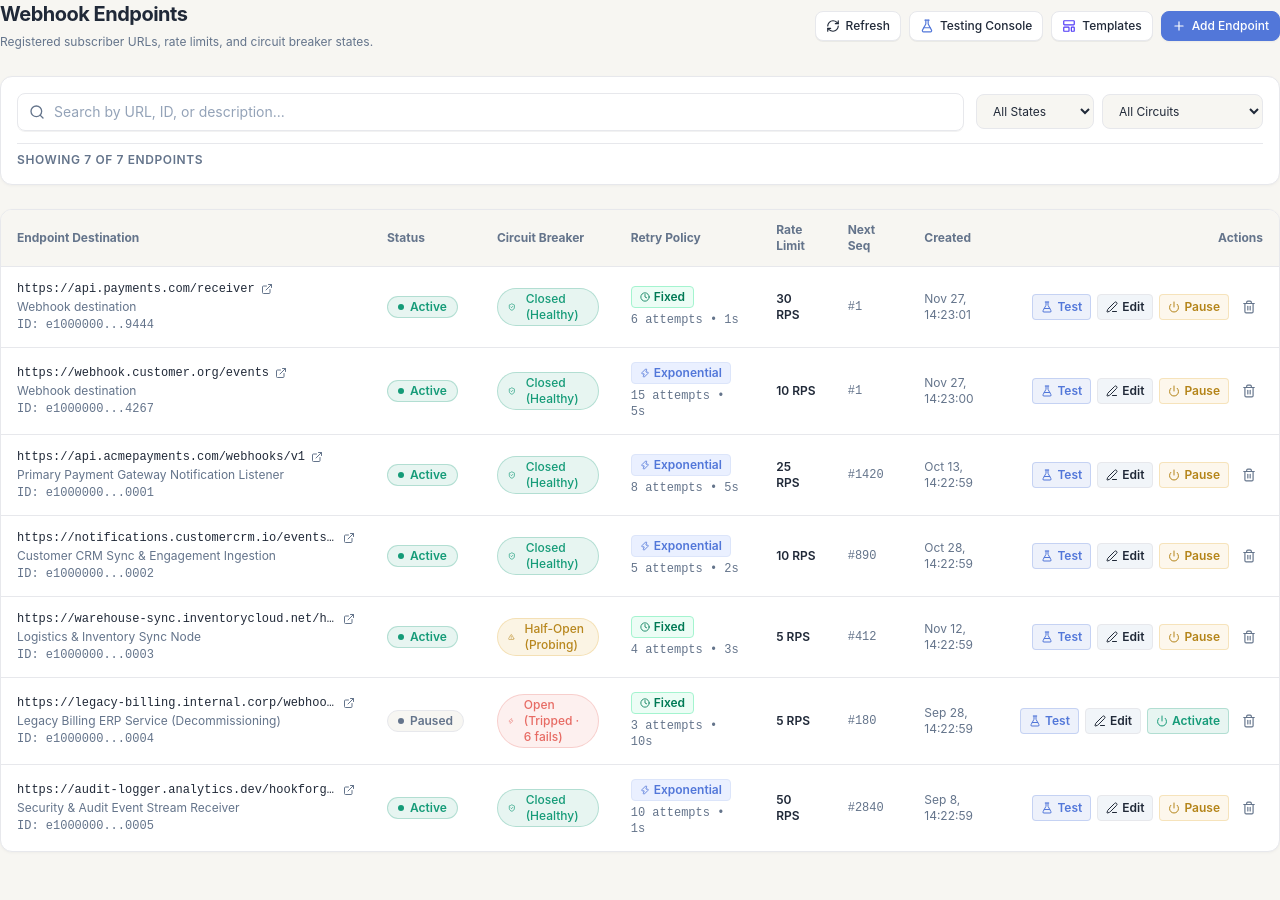
Test case: Phase 2, Task 3: Custom Retry Policies (Frontend) › 6. EndpointsPage Integration › opens Detail drawer when clicking endpoint destination link
The image size is (1280, 900).
Click the button "https://api.acmepayments.com/webhooks/v1": (161, 456) [17,448,305,464]
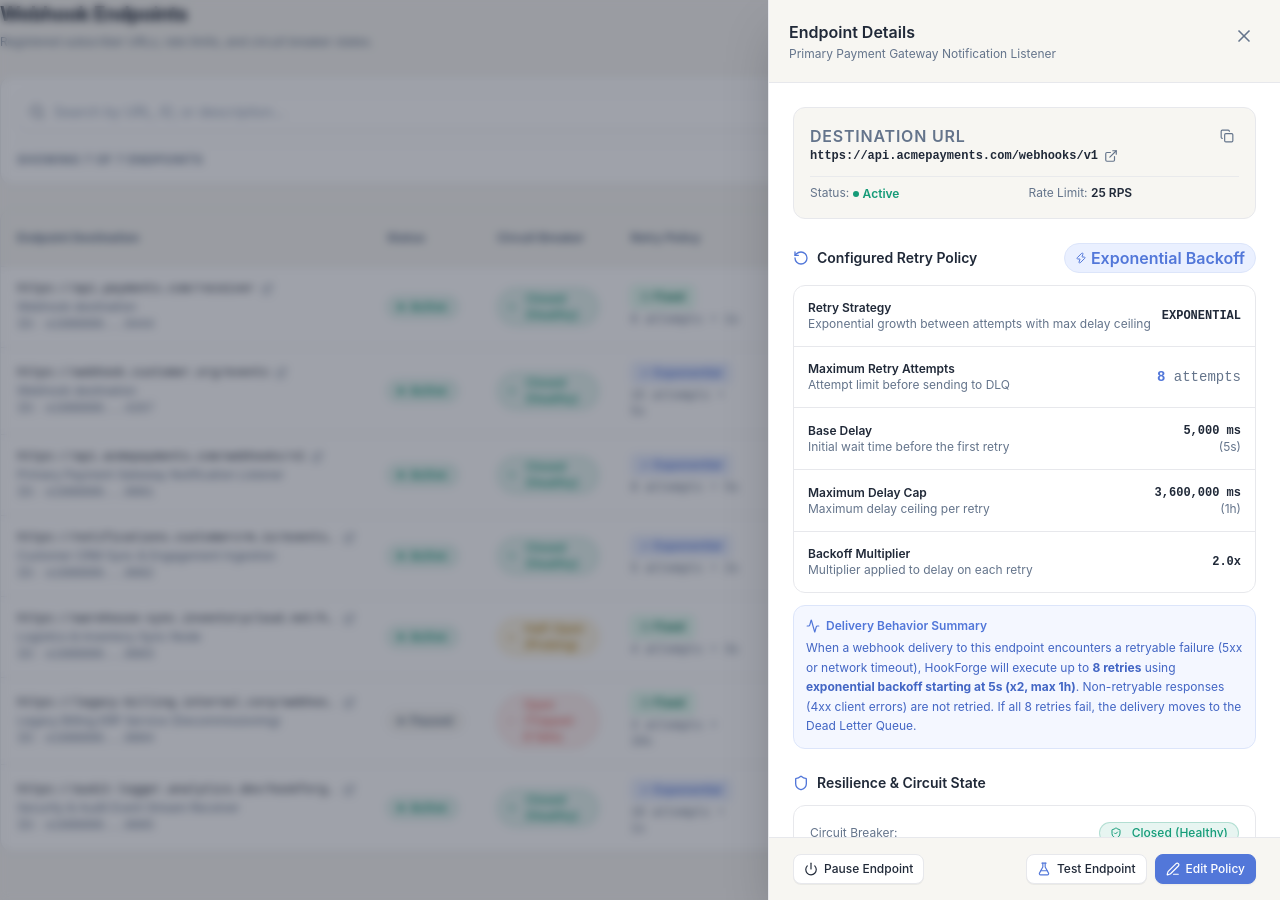
Expected: the heading "Endpoint Details" is shown, [789,22,915,42]
Expected: the heading "Configured Retry Policy" is shown, [817,248,977,268]
